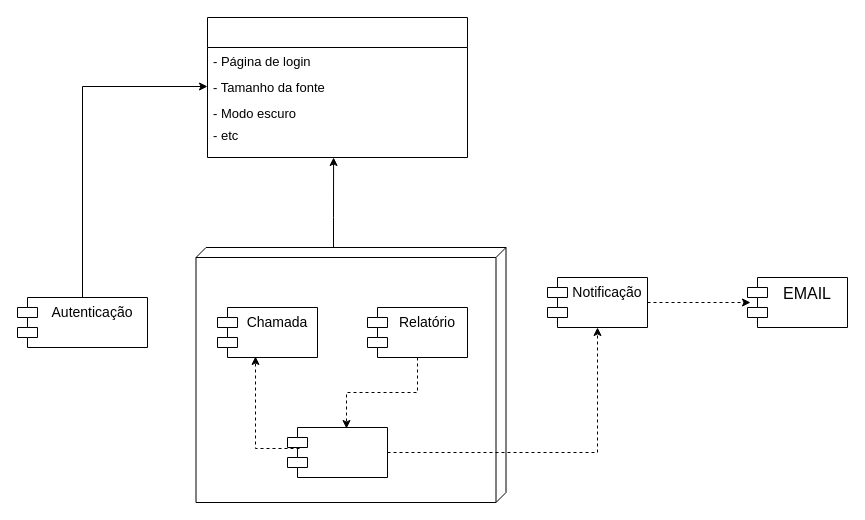
The diagram is 865 pixels wide and 520 high, and some of its shapes have lost their labels. Each missing label, with the box of its shape:
Banco de dados: (286, 426, 388, 478)
Block: (195, 246, 506, 502)
Interface de Usuário: (206, 16, 468, 158)
